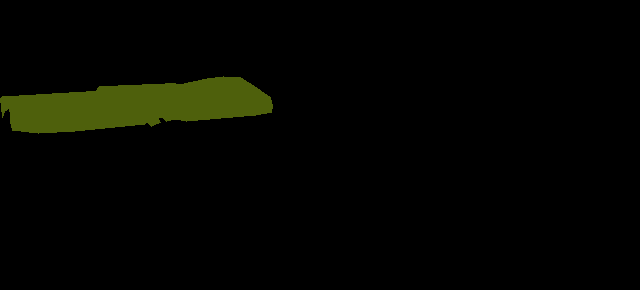Train: (0, 76, 272, 134)
